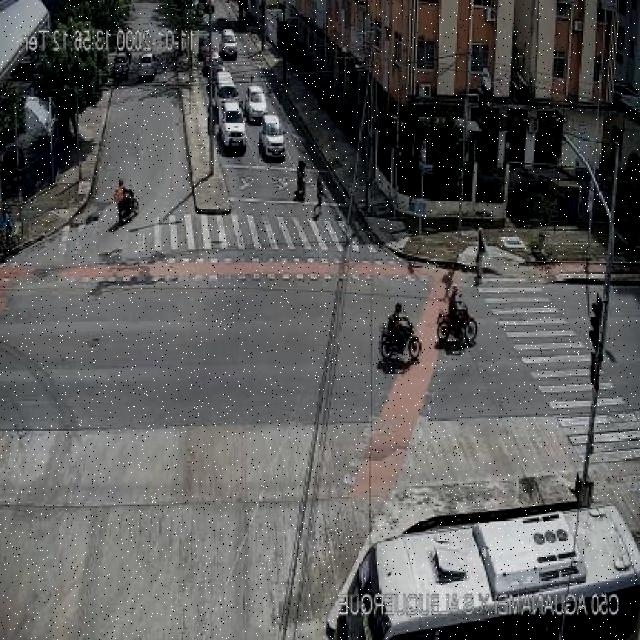bicycle: (0, 208, 22, 260)
car: (220, 102, 248, 150), (258, 115, 286, 158), (214, 70, 238, 108), (245, 82, 267, 122), (220, 27, 240, 58), (140, 50, 156, 79), (204, 46, 220, 74), (198, 32, 214, 59), (113, 52, 129, 77)
motorbike: (379, 302, 424, 362), (436, 285, 478, 344), (112, 179, 140, 219), (472, 228, 486, 288), (295, 154, 308, 206), (312, 173, 325, 221), (117, 64, 125, 84)
